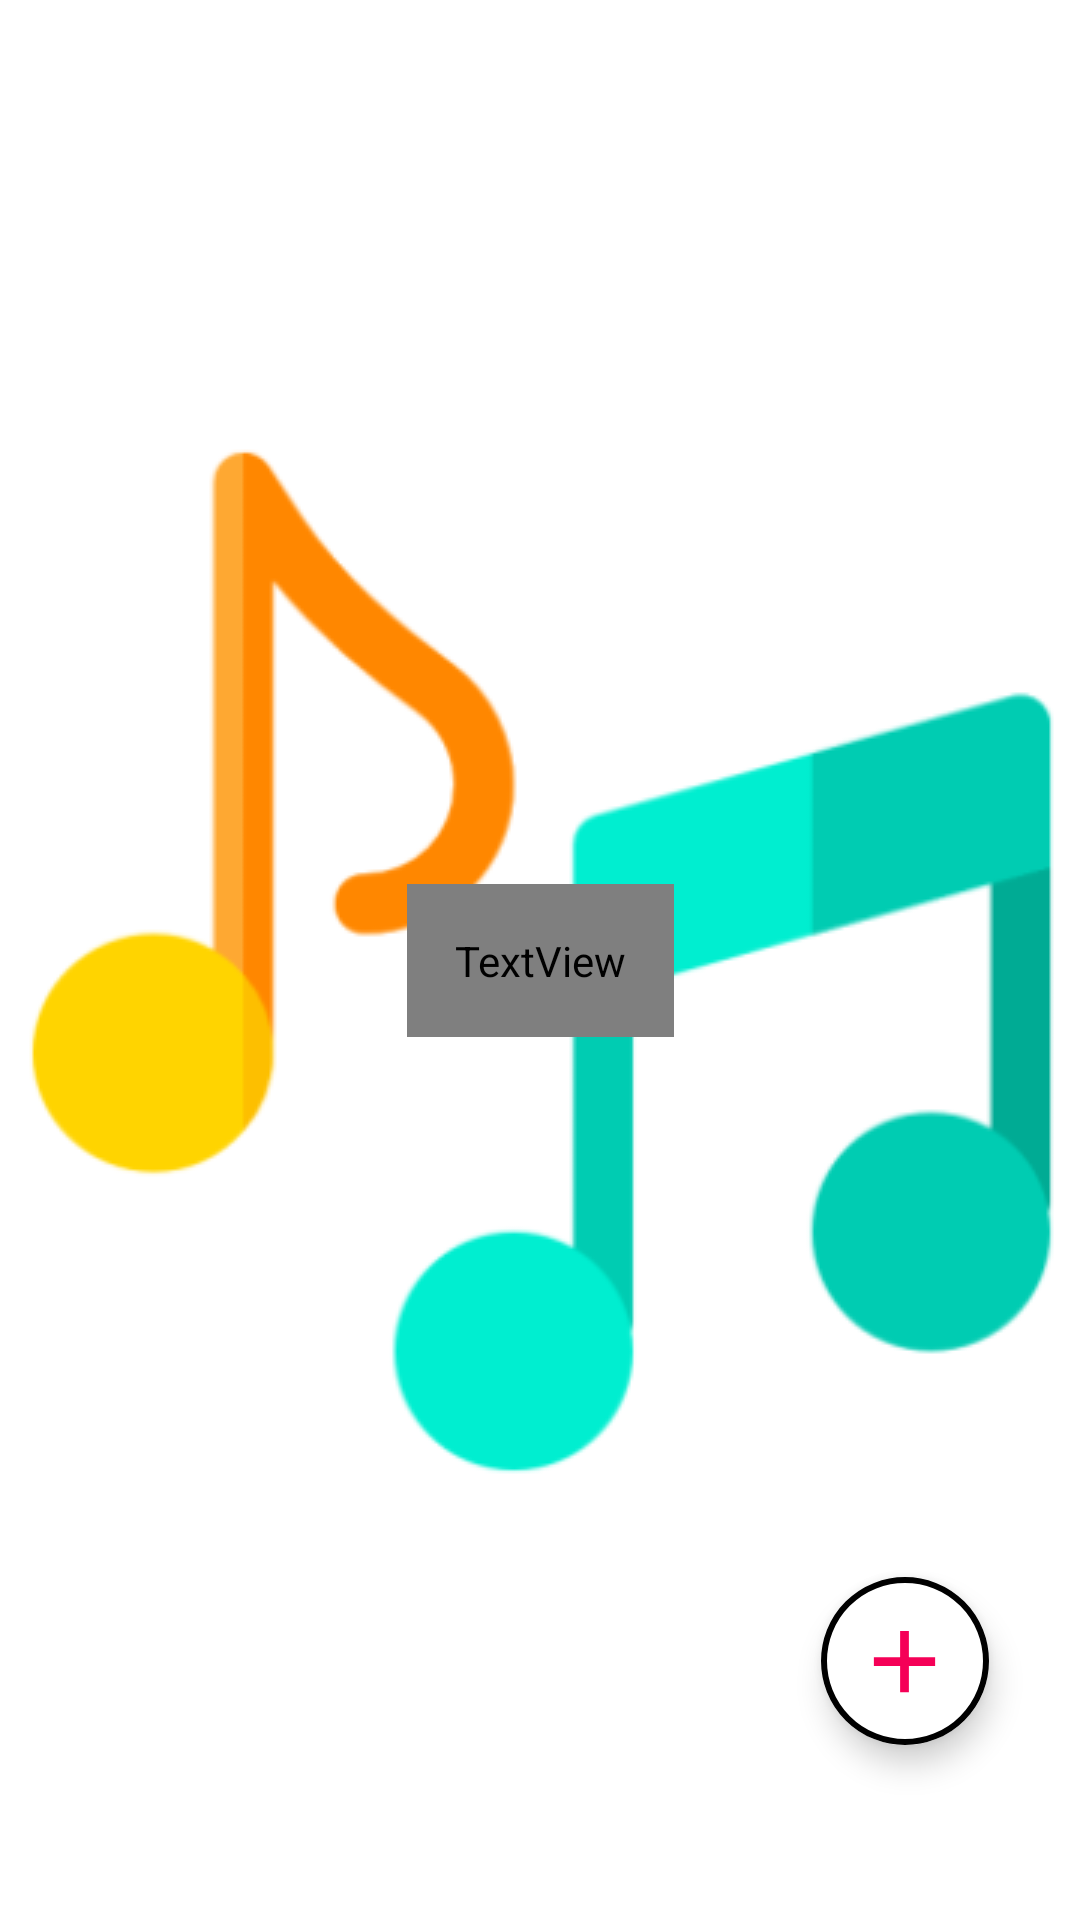

Named icons in this screenshot (1080*1920) and their bounding boxes, (x1, y1, x2, y2):
add: (821, 1577, 989, 1745)
